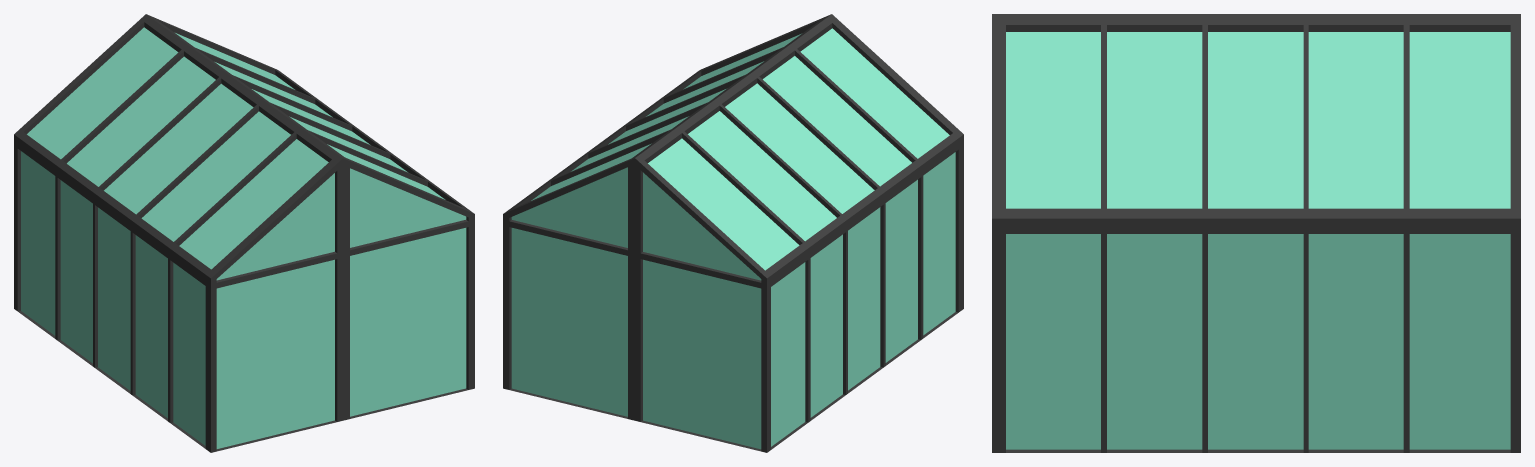
File: Nursery.fbx
The picture shows the model from 3 angles, left to right: view 1: azimuth 30°, elevation 25°; view 2: azimuth 150°, elevation 25°; view 3: azimuth 270°, elevation 25°; orthographic projection. The views are drawn at different scales.
Visible parts, largest first — view 1: Greenhouse; view 2: Greenhouse; view 3: Greenhouse.
Part boxes in pixels (box(x1,y1,x2,y2)): Greenhouse: box(14, 14, 474, 452); Greenhouse: box(503, 14, 963, 452); Greenhouse: box(992, 14, 1520, 452).
Bounding box in the file's own units: 317 × 301 × 409.
